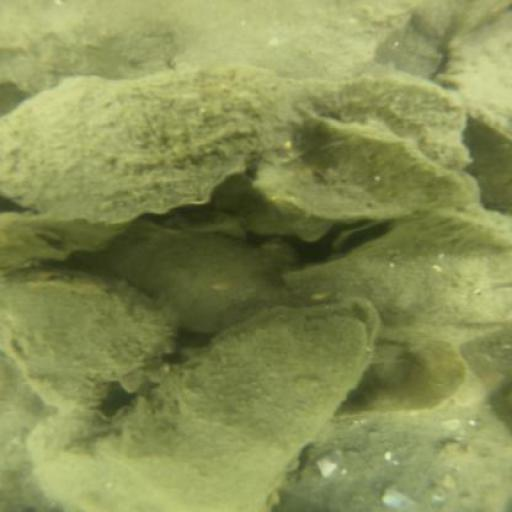Oyster-Closed: (108, 311, 371, 512), (3, 70, 302, 224), (294, 212, 506, 346), (6, 266, 177, 412), (283, 410, 507, 509), (97, 231, 280, 332), (306, 69, 464, 165), (27, 400, 160, 512), (440, 5, 510, 138), (420, 207, 507, 249)
Oyster-Open: (330, 209, 411, 261)
